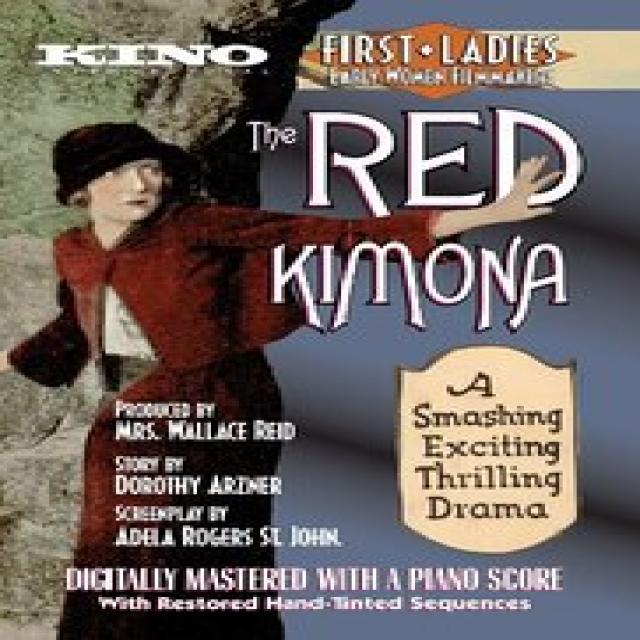movie-judul: (221, 101, 607, 329)
picture: (0, 109, 443, 640)
